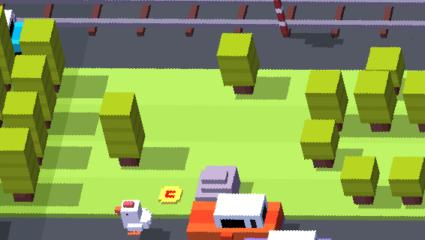hen: (115, 199, 153, 237)
obstacle: (186, 194, 286, 240), (98, 91, 146, 167), (1, 93, 49, 161), (21, 19, 64, 89), (12, 55, 56, 122), (216, 31, 260, 95), (0, 129, 38, 202), (355, 71, 397, 136), (306, 70, 348, 130), (341, 155, 380, 206), (388, 157, 425, 205), (302, 119, 337, 168), (366, 48, 401, 96), (195, 166, 238, 200), (402, 70, 425, 132), (265, 230, 330, 240)
